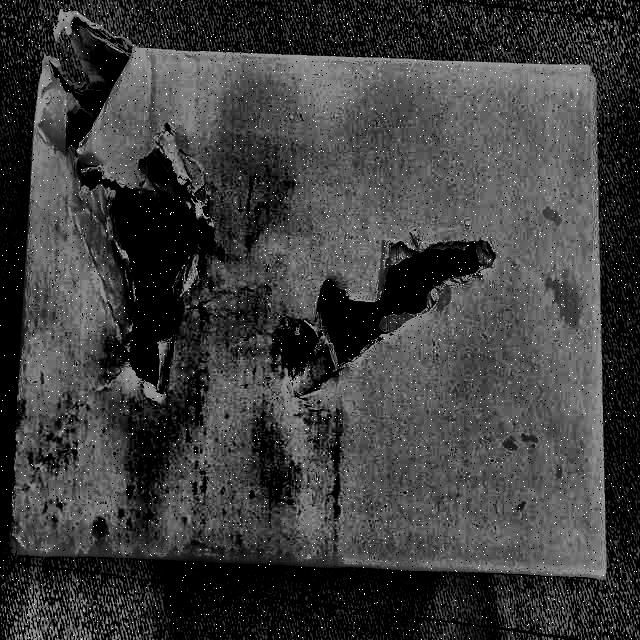box: (3, 34, 618, 586)
hole: (278, 223, 492, 406), (66, 147, 220, 401), (40, 51, 128, 151)
